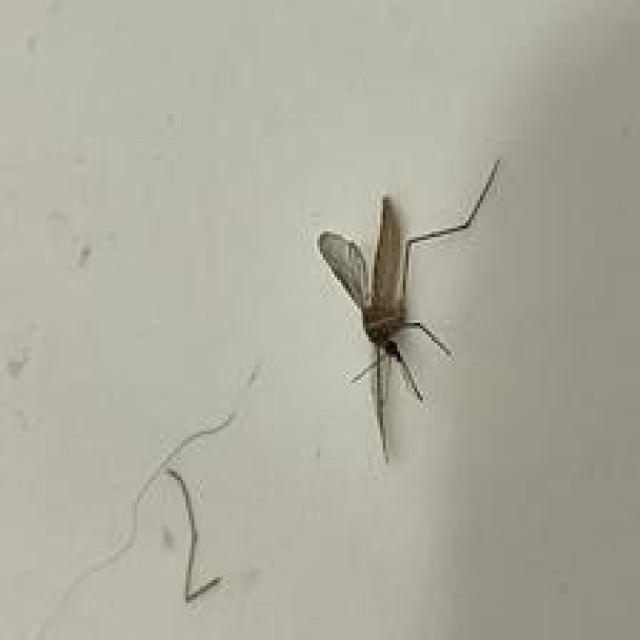Culex: (316, 159, 501, 464)
